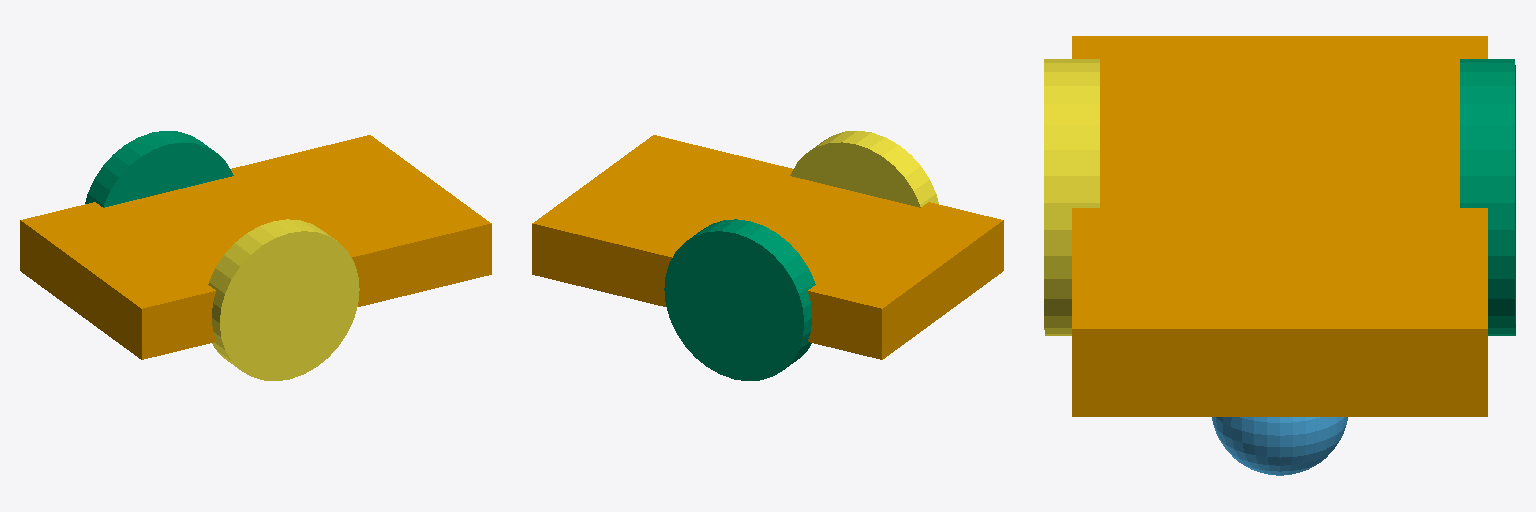
URDF robot description (2wheels):
<?xml version="1.0" ?>
<robot name="2wheels" xmlns:xacro="http://www.ros.org/wiki/xacro">
  
  <!-- Chassis link -->
  <link name="link_chassis">
    <!-- pose and inertial -->
    <pose>0 0 0.1 0 0 0</pose>
    <inertial>
      <mass value="2.5"/>
      <origin rpy="0 0 0" xyz="0 0 0.8"/>
      <inertia ixx="0.0395416666667" ixy="0" ixz="0" iyy="0.106208333333" iyz="0" izz="0.106208333333"/>
    </inertial>
    <!-- body -->
    <collision name="collision_chassis">
      <geometry>
        <box size="0.3 0.15 0.07"/>
      </geometry>
    </collision>
    <visual>
      <origin rpy="0 0 0" xyz="0 0 0"/>
      <geometry>
        <box size="0.5 0.3 0.07"/>
      </geometry>
      <material name="blue"/> <!-- This is only for Rviz visualization -->
    </visual>
  </link>
  
  <!-- caster front link -->
  <link name="caster_wheel">
    <inertial>
      <mass value="0.05"/>
      <origin rpy="0 0 0" xyz="0 0 0"/>
      <inertia ixx="0.0395416666667" ixy="0" ixz="0" iyy="0.106208333333" iyz="0" izz="0.106208333333"/>
    </inertial>
    <collision name="caster_front_collision">
      <origin rpy=" 0 0 0" xyz="-0.250 0 0.0095"/>
      <geometry>
        <sphere radius="0.025"/>
      </geometry>
      <surface>
        <friction>
          <ode>
            <mu>0</mu>
            <mu2>0</mu2>
            <slip1>1.0</slip1>
            <slip2>1.0</slip2>
          </ode>
        </friction>
      </surface>
    </collision>
    <visual name="caster_front_visual">
      <origin rpy=" 0 0 0" xyz="0.0 0 -0.05"/>
      <geometry>
        <sphere radius="0.05"/>
      </geometry>
    </visual>
  </link>
  
  <!-- Joint between caster and chassis -->
  <joint name="joint_caster" type="fixed">
    <origin rpy="0 0 0" xyz="0.2 0 -0.0"/>
    <child link="caster_wheel"/>
    <parent link="link_chassis"/>
  </joint>

  <!-- Right wheel -->
  <link name="link_right_wheel">
    <inertial>
      <mass value="0.2"/>
      <origin rpy="0 1.5707 1.5707" xyz="0 0 0"/>
      <inertia ixx="0.000526666666667" ixy="0" ixz="0" iyy="0.000526666666667" iyz="0" izz="0.001"/>
    </inertial>
    <collision name="link_right_wheel_collision">
      <origin rpy="0 1.5707 1.5707" xyz="0 0 0"/>
      <geometry>
        <cylinder length="0.04" radius="0.065"/>
      </geometry>
    </collision>
    <visual name="link_right_wheel_visual">
      <origin rpy="0 1.5707 1.5707" xyz="0 0 0"/>
      <geometry>
        <cylinder length="0.04" radius="0.1"/>
      </geometry>
    </visual>
  </link>
  
  <!-- Joint between right wheel and chassis -->
  <joint name="joint_right_wheel" type="continuous">
    <origin rpy="0 0 0" xyz="-0.05 0.15 0"/>
    <child link="link_right_wheel"/>
    <parent link="link_chassis"/>
    <axis rpy="0 0 0" xyz="0 1 0"/>
    <limit effort="10000" velocity="1000"/>
    <joint_properties damping="1.0" friction="1.0"/>
  </joint>
  
  <!-- LEFT wheel -->
  <link name="link_left_wheel">
    <inertial>
      <mass value="0.2"/>
      <origin rpy="0 1.5707 1.5707" xyz="0 0 0"/>
      <inertia ixx="0.000526666666667" ixy="0" ixz="0" iyy="0.000526666666667" iyz="0" izz="0.001"/>
    </inertial>
    <collision name="link_left_wheel_collision">
      <origin rpy="0 1.5707 1.5707" xyz="0 0 0"/>
      <geometry>
        <cylinder length="0.04" radius="0.065"/>
      </geometry>
    </collision>
    <visual name="link_left_wheel_visual">
      <origin rpy="0 1.5707 1.5707" xyz="0 0 0"/>
      <geometry>
        <cylinder length="0.04" radius="0.1"/>
      </geometry>
    </visual>
  </link>
  
  <!-- Joint between LEFT wheel and chassis -->
  <joint name="joint_left_wheel" type="continuous">
    <origin rpy="0 0 0" xyz="-0.05 -0.15 0"/> <!-- PAY ATTENTION NEGATIVE 'y' -->
    <child link="link_left_wheel"/>
    <parent link="link_chassis"/>
    <axis rpy="0 0 0" xyz="0 1 0"/>
    <limit effort="10000" velocity="1000"/>
    <joint_properties damping="1.0" friction="1.0"/>
  </joint>

</robot>

--- What the picture shows (computed from the rendered views, not written in the file) ---
Views: 3 orthographic renders of the robot side by side, from view 1: azimuth 30°, elevation 25°; view 2: azimuth 150°, elevation 25°; view 3: azimuth 270°, elevation 25°.
Model 2wheels with 4 links and 3 joints (2 continuous, 1 fixed), rooted at link_chassis, posed every joint at zero.
Links seen in each view (by area): view 1: link_chassis, link_left_wheel, link_right_wheel; view 2: link_chassis, link_right_wheel, link_left_wheel; view 3: link_chassis, link_right_wheel, link_left_wheel, caster_wheel.
Boxes of the visible links, <box> form: link_chassis: <box>20,135,491,359</box>; link_left_wheel: <box>208,219,359,380</box>; link_right_wheel: <box>85,131,233,207</box>; link_chassis: <box>532,135,1003,359</box>; link_right_wheel: <box>664,219,815,380</box>; link_left_wheel: <box>790,131,938,207</box>; link_chassis: <box>1072,36,1487,416</box>; link_right_wheel: <box>1460,59,1515,335</box>; link_left_wheel: <box>1044,59,1099,335</box>; caster_wheel: <box>1212,417,1347,475</box>.
Size in the robot's own frame: 0.5 by 0.34 by 0.2 metres.
Geometry: primitives only (box / cylinder / sphere), no mesh files.